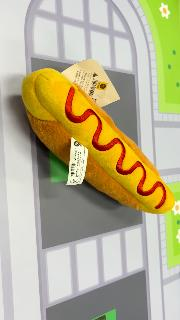hotdog: (20, 67, 176, 215)
